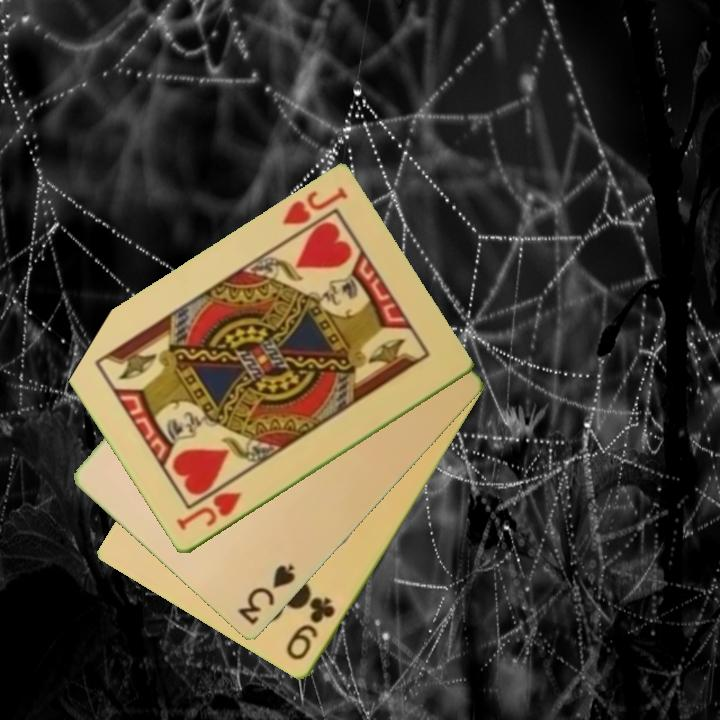3s: (234, 560, 299, 628)
9c: (283, 593, 339, 664)
Jh: (172, 488, 245, 534), (278, 183, 351, 229)
